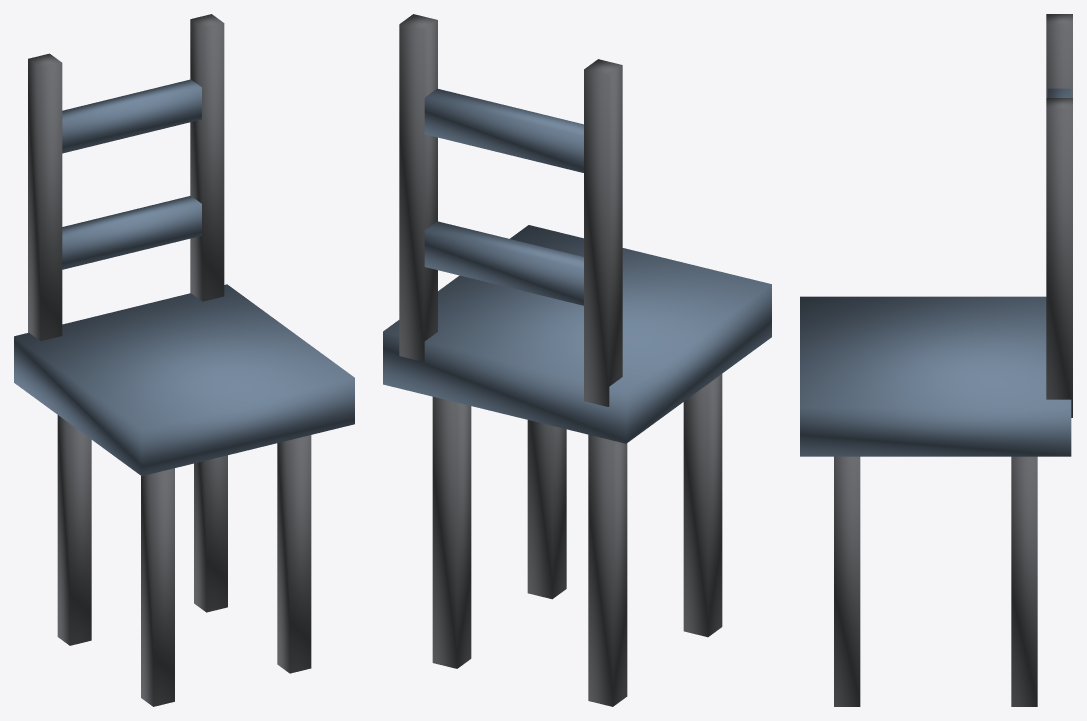
Rendered from waiting_chair__tall.glb.
3 views of the same model, side by side, from view 1: azimuth 30°, elevation 25°; view 2: azimuth 150°, elevation 25°; view 3: azimuth 270°, elevation 25° (orthographic). The views are drawn at different scales.
Parts seen in each view (by area): view 1: world; view 2: world; view 3: world.
Boxes of the visible parts, x1=… form: world: x1=14, y1=14, x2=354, y2=706; world: x1=383, y1=14, x2=771, y2=706; world: x1=800, y1=14, x2=1072, y2=706.
Size of the model in its own units: 0.445 by 1.13 by 0.4641.
